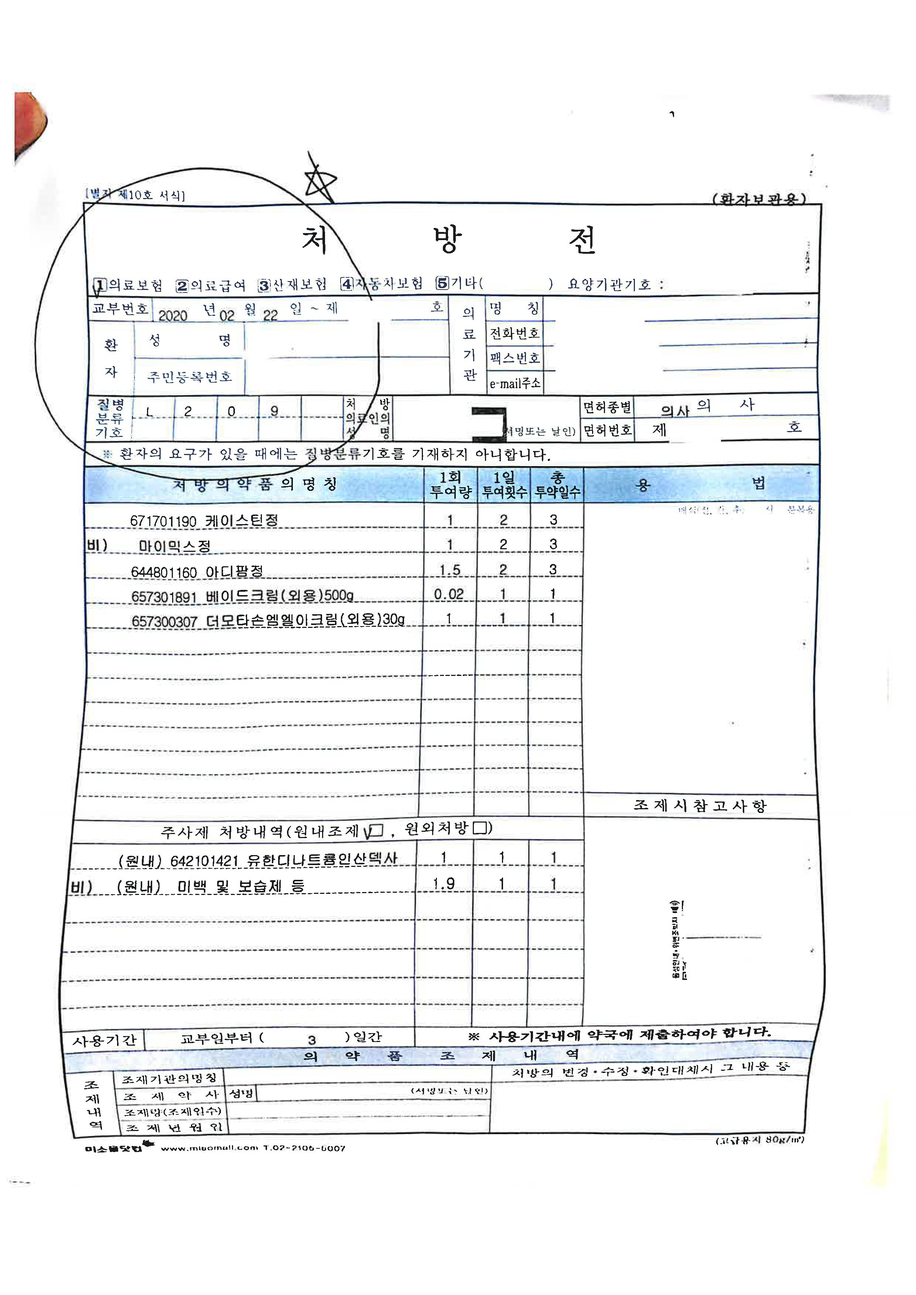row: (82, 201, 819, 297), (584, 468, 814, 722), (582, 794, 821, 1015), (449, 294, 817, 393), (88, 299, 449, 399), (67, 1068, 491, 1135), (83, 465, 582, 505), (493, 1062, 806, 1121), (54, 1022, 816, 1046), (85, 441, 819, 463), (58, 868, 582, 898), (85, 576, 582, 607), (82, 604, 582, 632), (86, 529, 582, 557), (58, 843, 584, 869), (83, 396, 343, 445), (343, 393, 580, 445), (86, 554, 581, 578), (580, 394, 819, 442), (83, 508, 581, 530), (68, 822, 583, 843), (295, 1047, 602, 1069)
